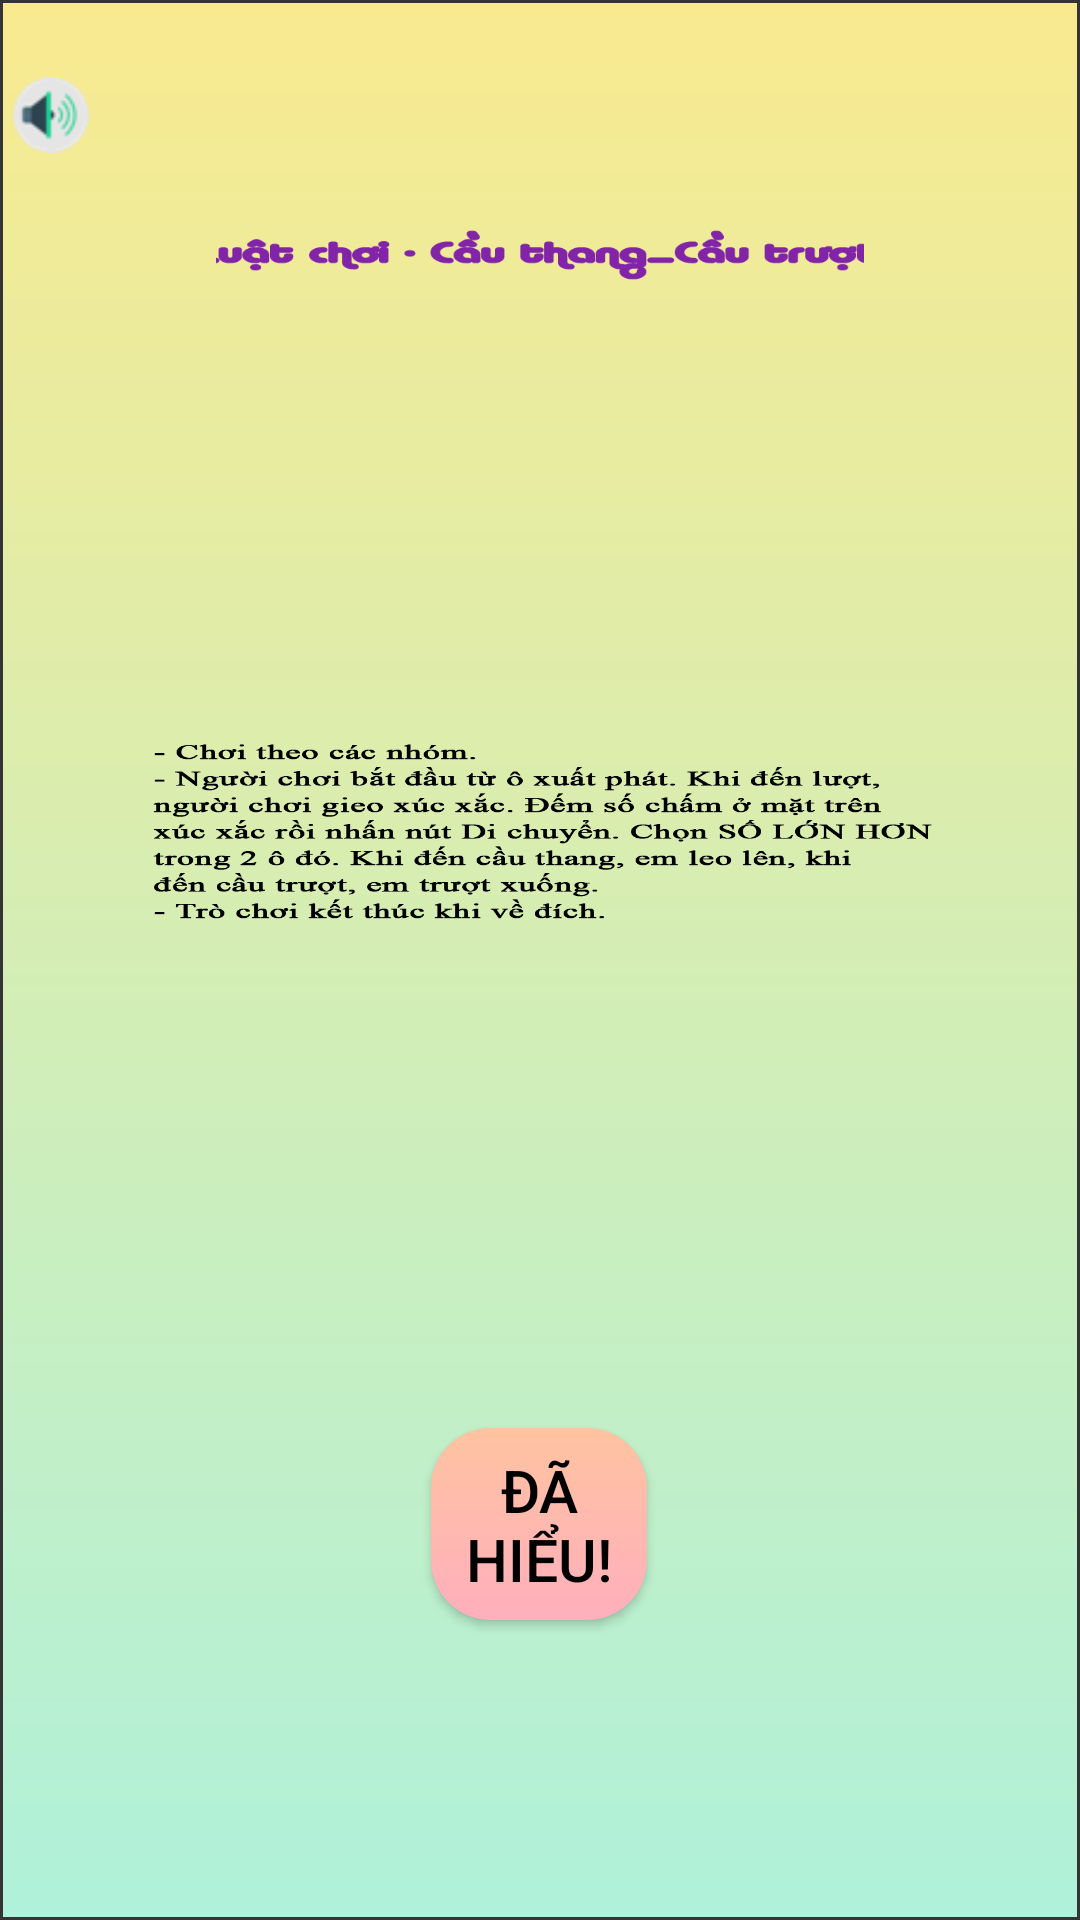

Screen size 1080x1920. Icon name, then its center in pixels as [x,y]:
sound on: [51,115]
